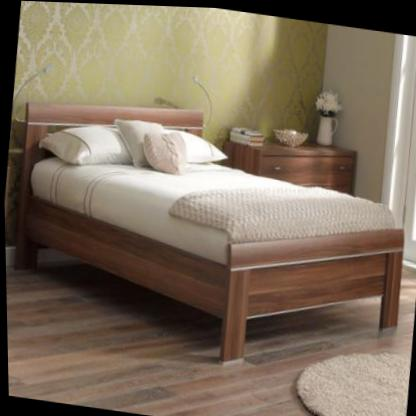Bed: (1, 80, 416, 386)
Nightstand: (216, 117, 370, 193)
